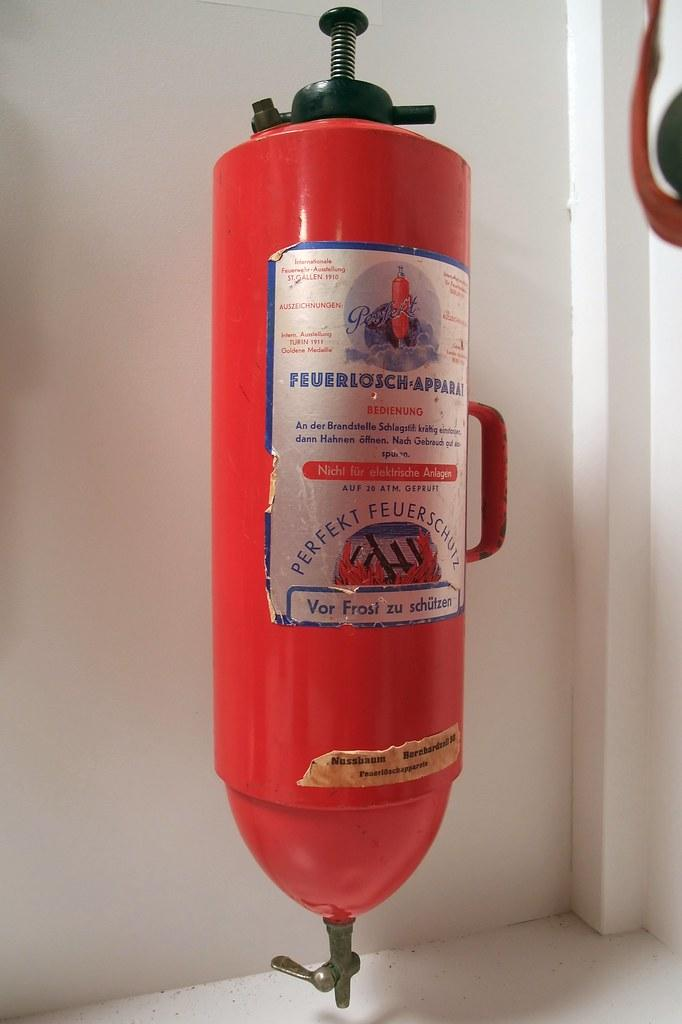Fire Extinguisher: (182, 2, 540, 1005)
